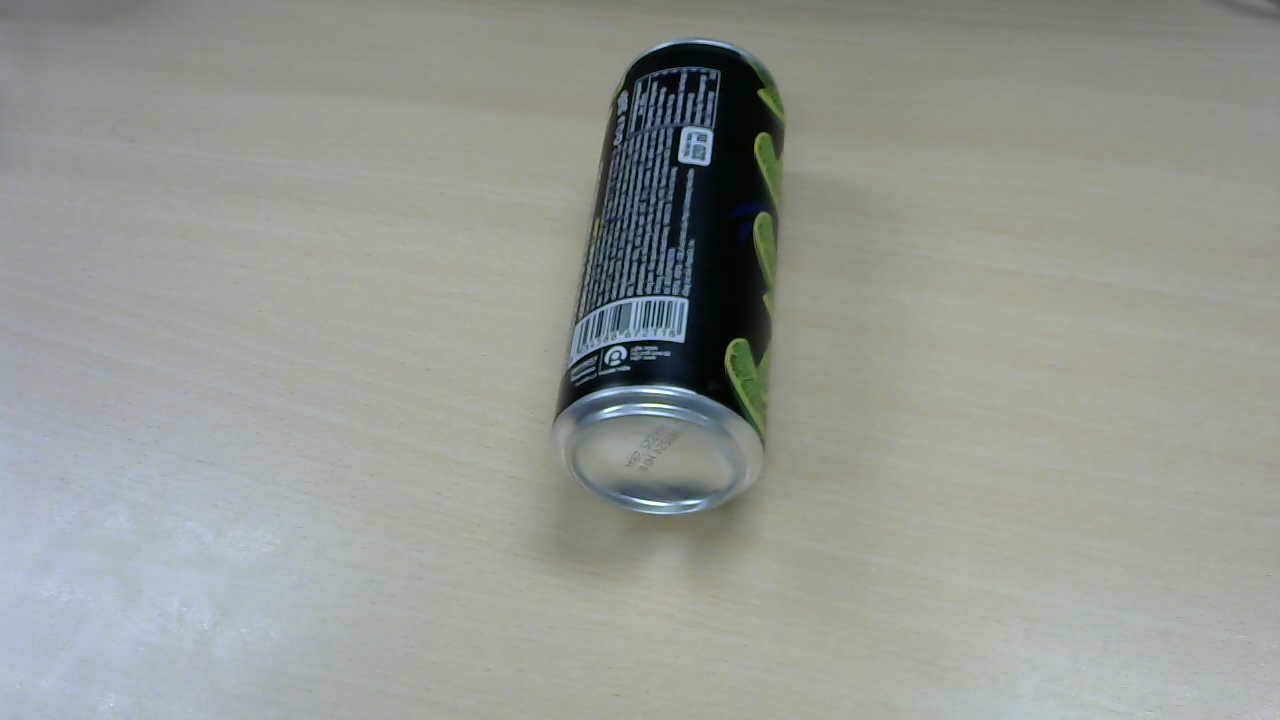Pepsi: (554, 48, 788, 513)
